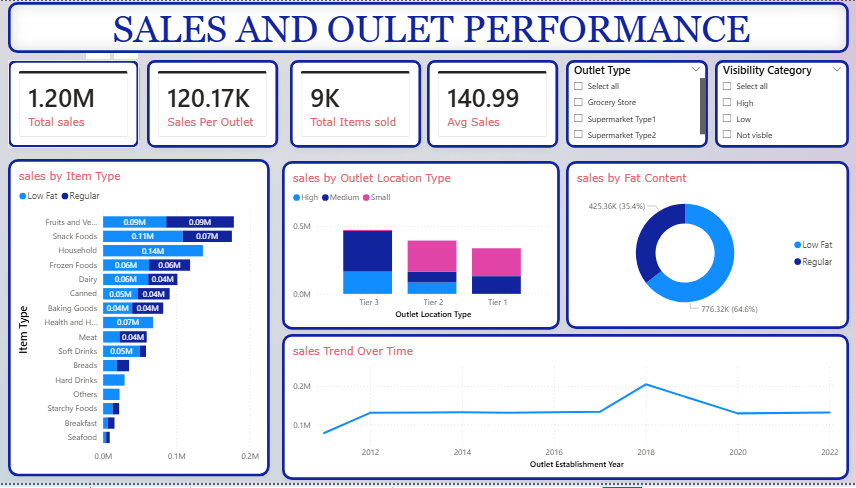

The dashboard page shown, as its layout file describes it:
{"tool":"powerbi","page":{"name":"Sales and Outlet Performance","canvas":[1280,720],"ordinal":1},"visuals":[{"type":"cardVisual","fields":{"Data":["BlinkIT Grocery Data.Total sales"]},"box":[12,88.1,195.7,131.5],"z":0},{"type":"cardVisual","fields":{"Data":["BlinkIT Grocery Data.Sales Per Outlet"]},"box":[219.6,88.1,195.7,131.5],"z":1000},{"type":"cardVisual","fields":{"Data":["BlinkIT Grocery Data.Total Items sold"]},"box":[433.2,88.1,195.7,131.5],"z":2000},{"type":"lineChart","title":"sales Trend Over Time","fields":{"Y":["BlinkIT Grocery Data.Total sales"],"Category":["BlinkIT Grocery Data.Outlet Establishment Year"]},"box":[421.2,497.4,847,218.1],"z":3000},{"type":"columnChart","title":"sales by Outlet Location Type","fields":{"Category":["BlinkIT Grocery Data.Outlet Location Type"],"Y":["BlinkIT Grocery Data.Total sales"],"Series":["BlinkIT Grocery Data.Outlet Size"]},"box":[421.2,239,415.3,252.4],"z":4000},{"type":"barChart","title":"sales by Item Type ","fields":{"Category":["BlinkIT Grocery Data.Item Type"],"Y":["BlinkIT Grocery Data.Total sales"],"Series":["BlinkIT Grocery Data.Item Fat Content"]},"box":[12,236,391.4,473.5],"z":5000},{"type":"donutChart","title":"sales by Fat Content","fields":{"Category":["BlinkIT Grocery Data.Item Fat Content"],"Y":["BlinkIT Grocery Data.Total sales"]},"box":[845.5,239,422.7,251],"z":6000},{"type":"textbox","title":"SALES AND OULET PERFORMANCE","box":[12,1.5,1256.3,76.2],"z":7000},{"type":"slicer","fields":{"Values":["BlinkIT Grocery Data.Outlet Type"]},"box":[845.5,88.1,212.1,131.5],"z":8000},{"type":"slicer","fields":{"Values":["BlinkIT Grocery Data.Visibility Category"]},"box":[1068,88.1,200.2,131.5],"z":9000},{"type":"cardVisual","fields":{"Data":["BlinkIT Grocery Data.Avg Sales"]},"box":[637.8,88.1,195.7,131.5],"z":10000}]}

Visuals, with their boxes in screenshot pixels (x1, y1, x2, y2), scaled from the page's 1280x720 canvas onto the 856x488 screenshot:
cardVisual - BlinkIT Grocery Data.Total sales: [8, 60, 139, 149]
cardVisual - BlinkIT Grocery Data.Sales Per Outlet: [147, 60, 278, 149]
cardVisual - BlinkIT Grocery Data.Total Items sold: [290, 60, 421, 149]
"sales Trend Over Time" lineChart: [282, 337, 848, 485]
"sales by Outlet Location Type" columnChart: [282, 162, 559, 333]
"sales by Item Type " barChart: [8, 160, 270, 481]
"sales by Fat Content" donutChart: [565, 162, 848, 332]
"SALES AND OULET PERFORMANCE" textbox: [8, 1, 848, 53]
slicer - BlinkIT Grocery Data.Outlet Type: [565, 60, 707, 149]
slicer - BlinkIT Grocery Data.Visibility Category: [714, 60, 848, 149]
cardVisual - BlinkIT Grocery Data.Avg Sales: [427, 60, 557, 149]
